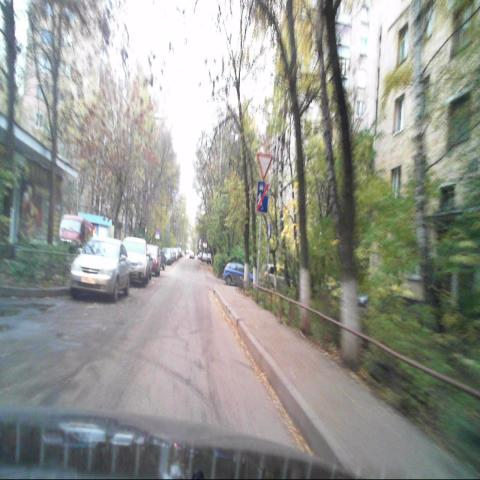5_22: (256, 181, 268, 212)
